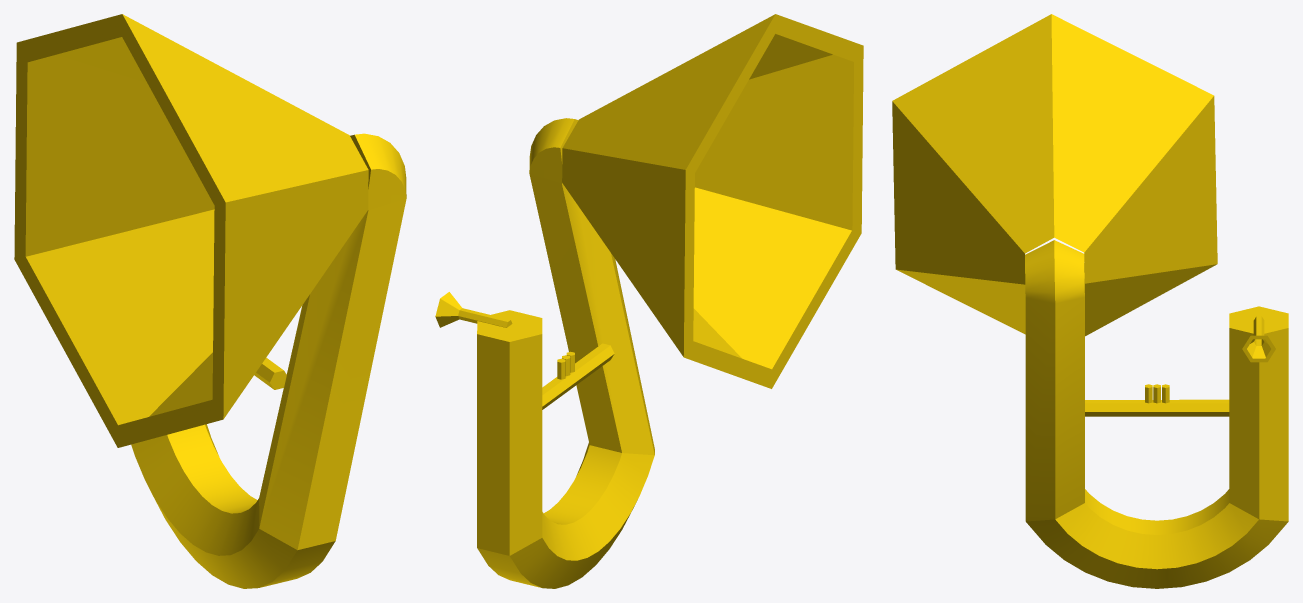
Rendered from tuba.dae.
3 renders of one model, left to right at view 1: azimuth 30°, elevation 25°; view 2: azimuth 150°, elevation 25°; view 3: azimuth 270°, elevation 25°, orthographic. The views are drawn at different scales.
Parts seen in each view (by area): view 1: SketchUp (×2); view 2: SketchUp (×3); view 3: SketchUp (×3).
Part boxes in pixels (left/top/right/bottom): SketchUp (×2): left=14, top=14, right=406, bottom=588; SketchUp (×3): left=435, top=14, right=863, bottom=588; SketchUp (×3): left=892, top=14, right=1288, bottom=588.
Size of the model in its own units: 15.01 by 23.35 by 32.54.
